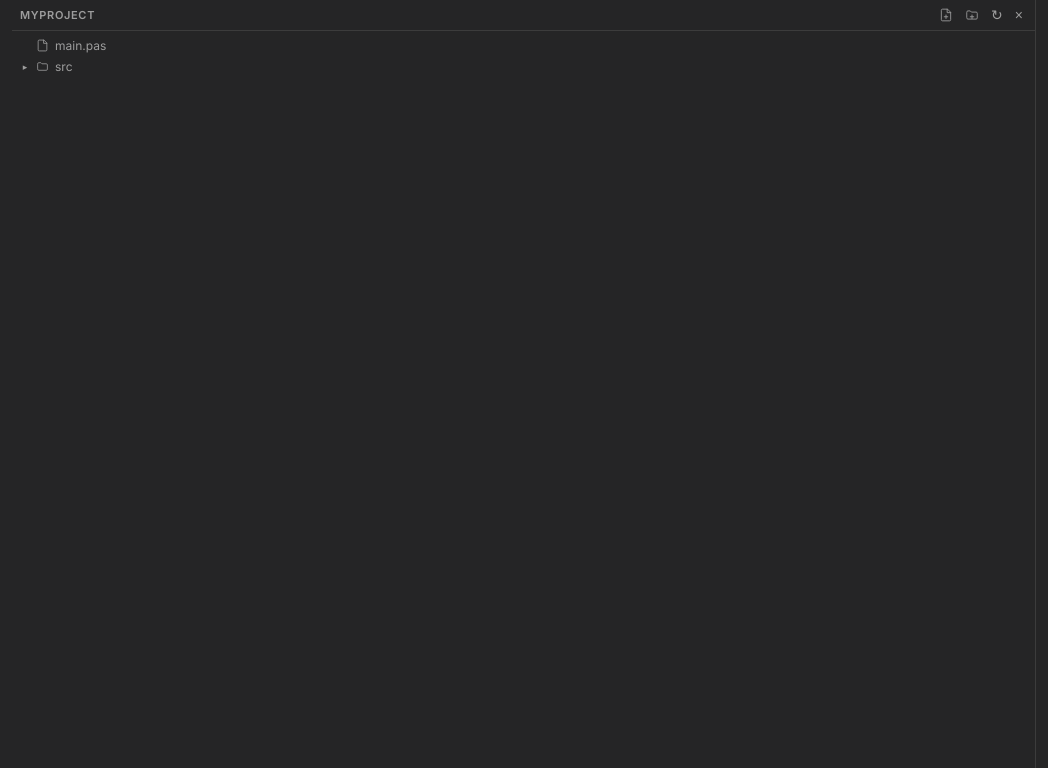
Test: FileTree create file and folder › clears the input, refreshes the tree, and opens the created file on success
Click the button titled "New File" at (946, 15), box left=935, top=6, right=957, bottom=24
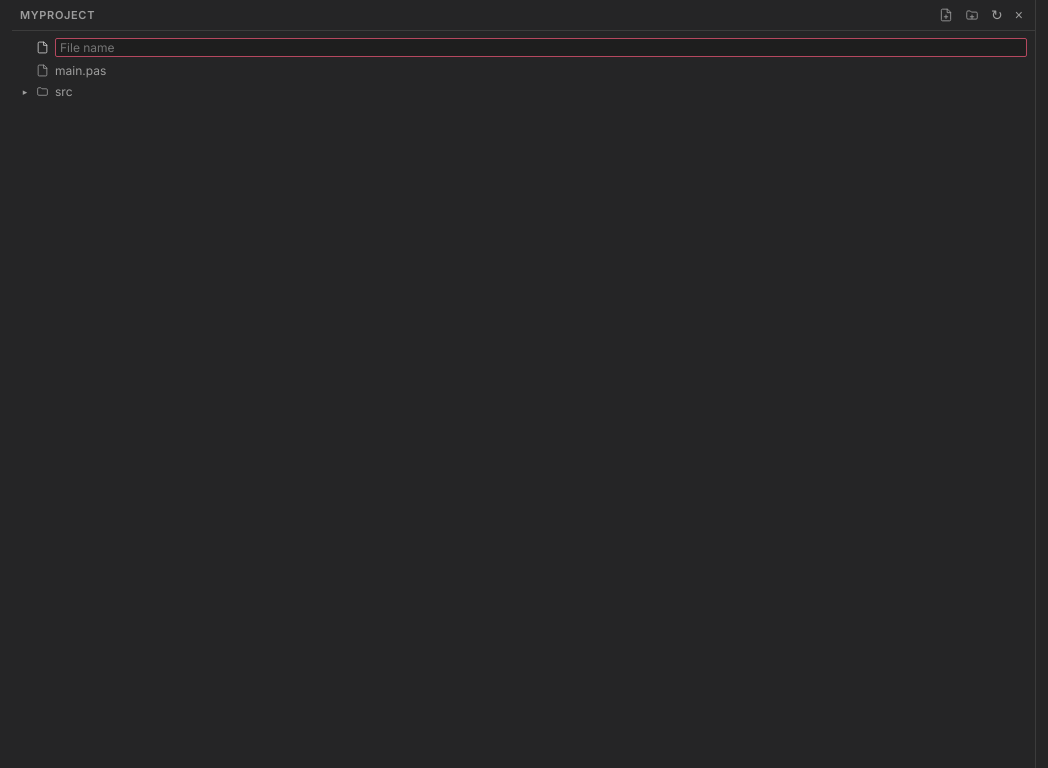
Type "new.pas" into the field with class "new-entry-input" at (541, 48), box left=55, top=38, right=1027, bottom=57
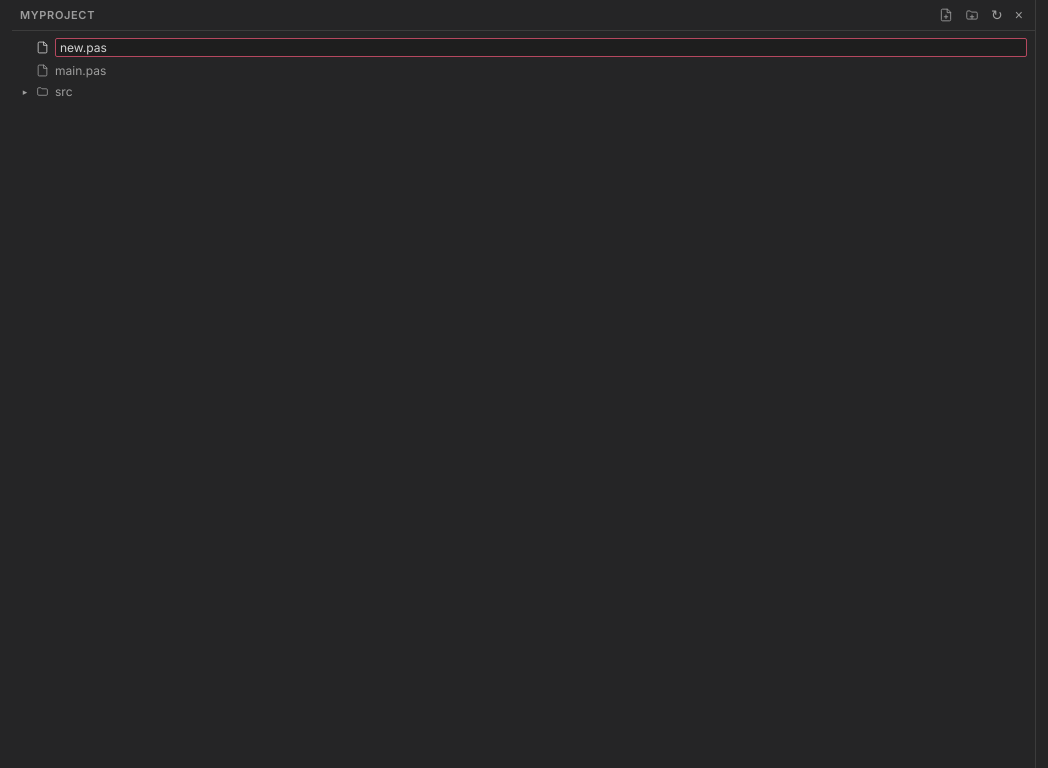
Press Enter in the field with class "new-entry-input", box left=55, top=38, right=1027, bottom=57
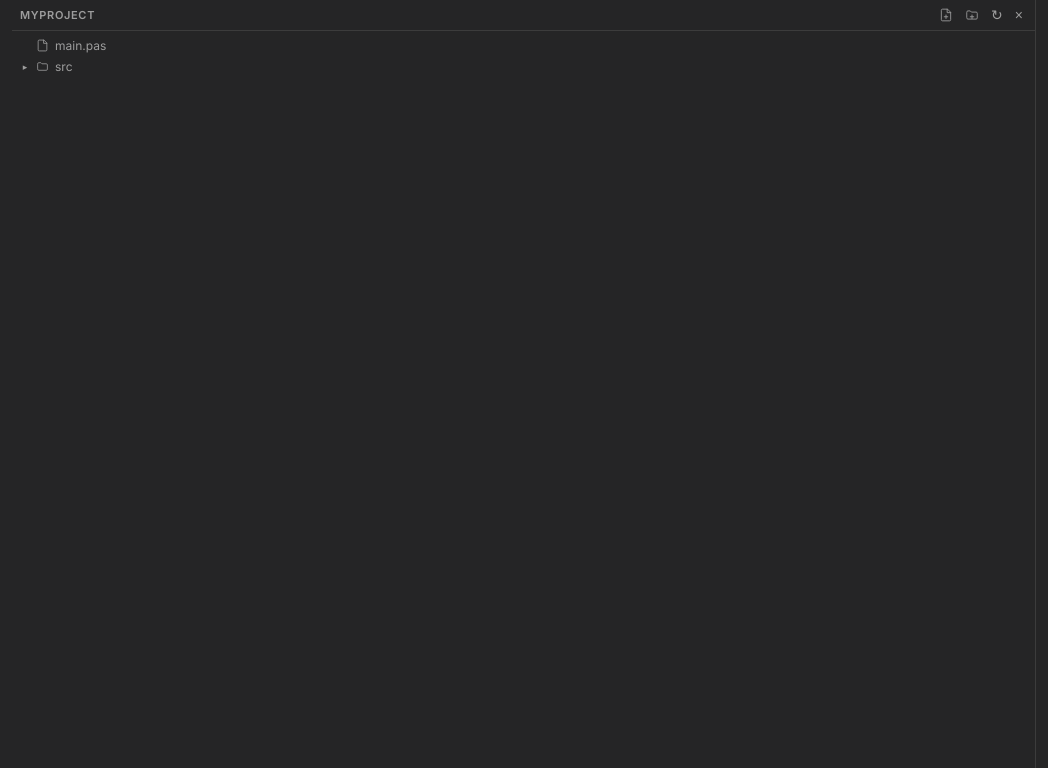
expect the field with class "new-entry-input" is gone: met
